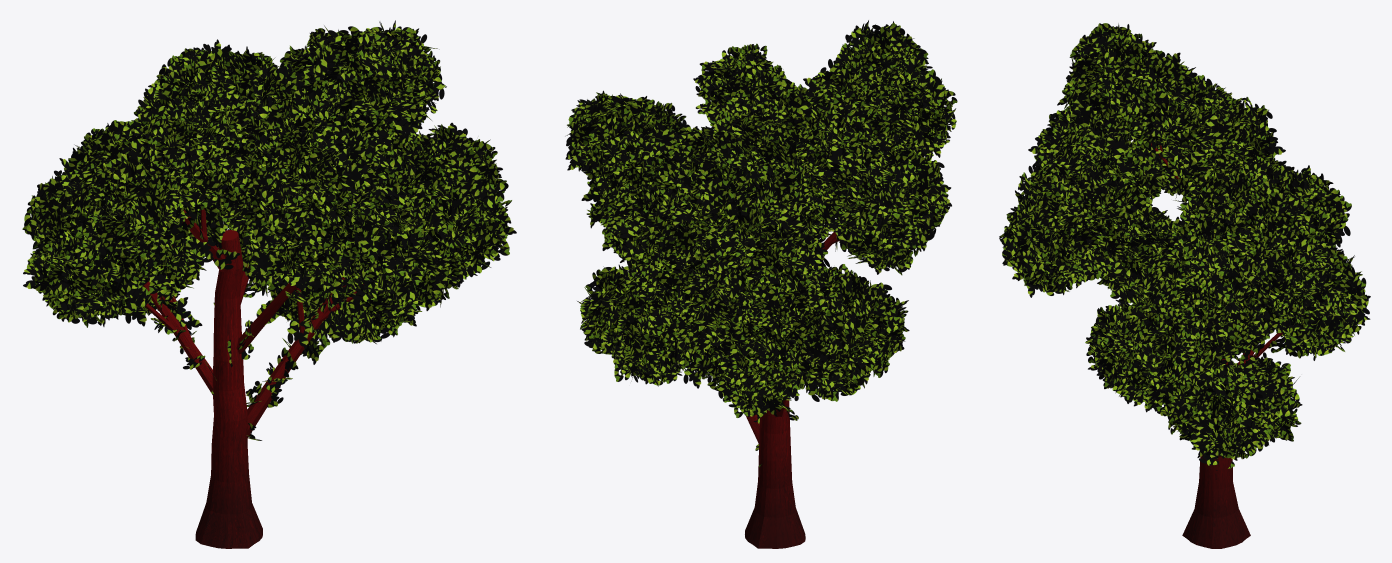
The model's file is oak_broadleaf_v02.glb.
3 views of the same model, side by side, from view 1: azimuth 30°, elevation 25°; view 2: azimuth 150°, elevation 25°; view 3: azimuth 270°, elevation 25° (orthographic). The views are drawn at different scales.
Visible parts, largest first — view 1: oak_broadleaf_v02; view 2: oak_broadleaf_v02; view 3: oak_broadleaf_v02.
Part boxes in pixels (<box>): oak_broadleaf_v02: <box>22,20,516,548</box>; oak_broadleaf_v02: <box>565,20,957,548</box>; oak_broadleaf_v02: <box>999,23,1370,548</box>.
Bounding box in the file's own units: 18.55 × 22.88 × 16.26.
2 materials, 2 textured.
